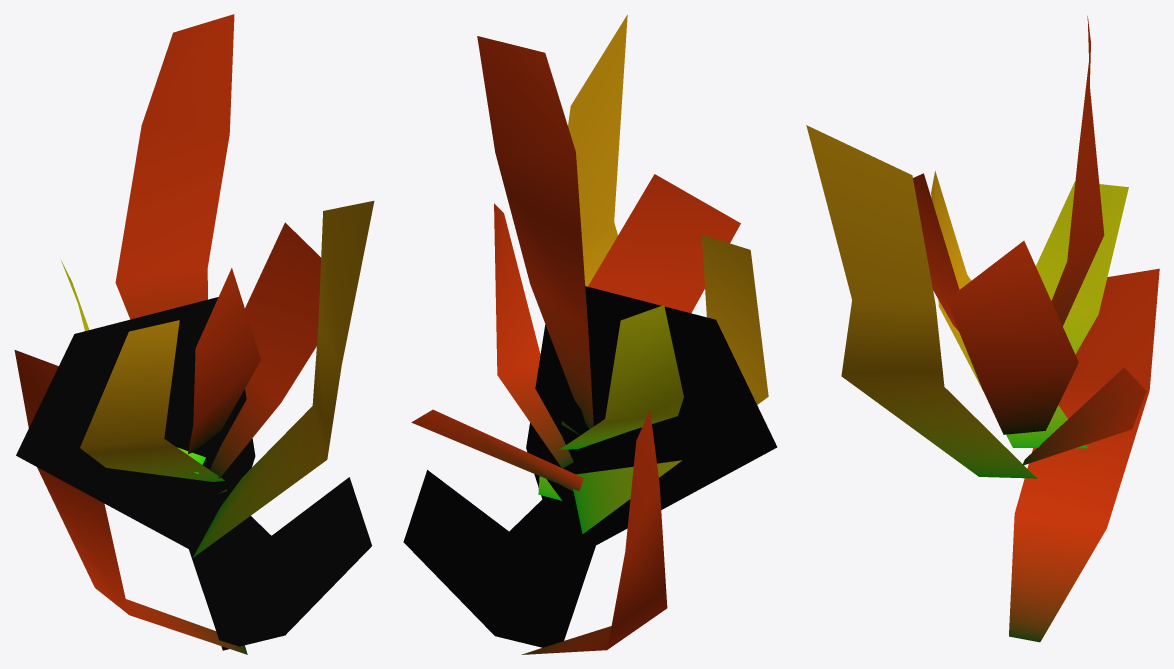
File: Seaweed_LOD1_Var7_sdpjN.fbx
3 views of the same model, side by side, from view 1: azimuth 30°, elevation 25°; view 2: azimuth 150°, elevation 25°; view 3: azimuth 270°, elevation 25° (orthographic). The views are drawn at different scales.
Parts seen in each view (by area): view 1: merge1; view 2: merge1; view 3: merge1.
Part boxes in pixels (x1,y1,x2,y2): merge1: [14, 14, 374, 654]; merge1: [403, 14, 777, 654]; merge1: [806, 16, 1159, 642].
Bounding box in the file's own units: 14.24 × 23.08 × 12.17.
